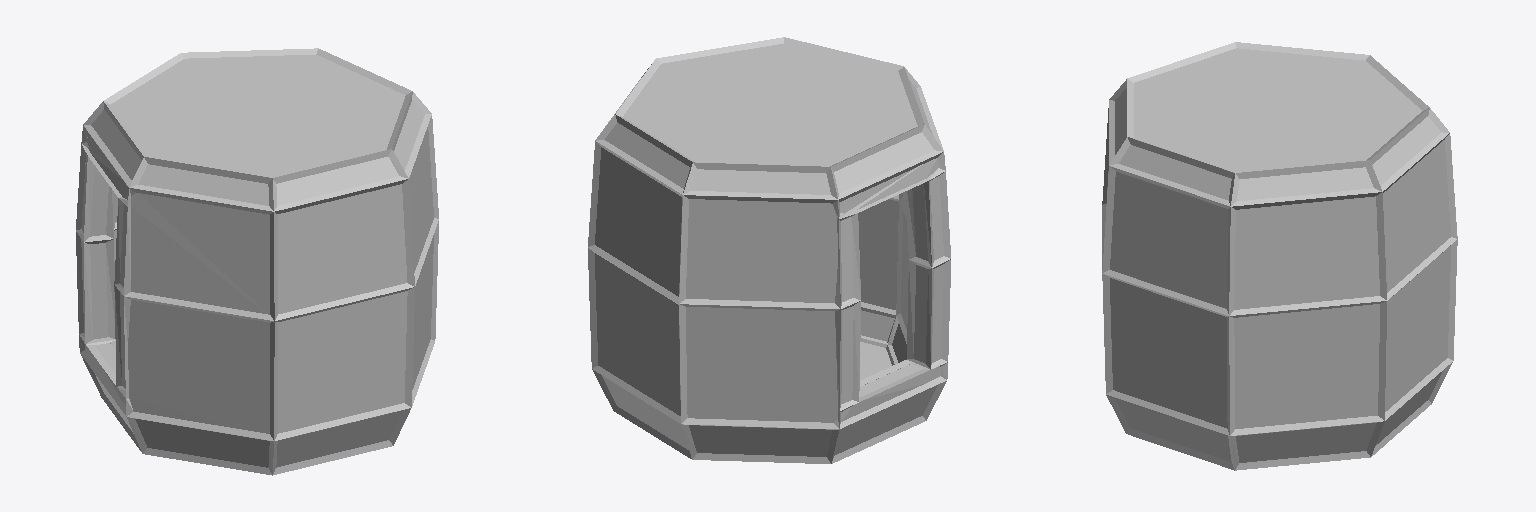
File: regen-pod-mk1.obj
3 views of the same model, side by side, from view 1: azimuth 30°, elevation 25°; view 2: azimuth 150°, elevation 25°; view 3: azimuth 270°, elevation 25° (orthographic).
Visible parts, largest first — view 1: Cylinder; view 2: Cylinder; view 3: Cylinder.
Boxes of the visible parts, <box> form: Cylinder: <box>76,48,438,475</box>; Cylinder: <box>588,37,950,463</box>; Cylinder: <box>1102,42,1457,470</box>.
Bounding box in the file's own units: 2.44 × 2.19 × 2.38.